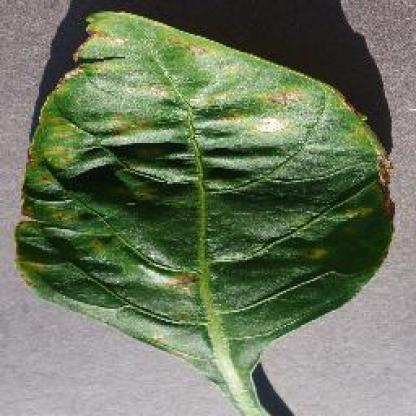bad leaf: (21, 1, 391, 415)
